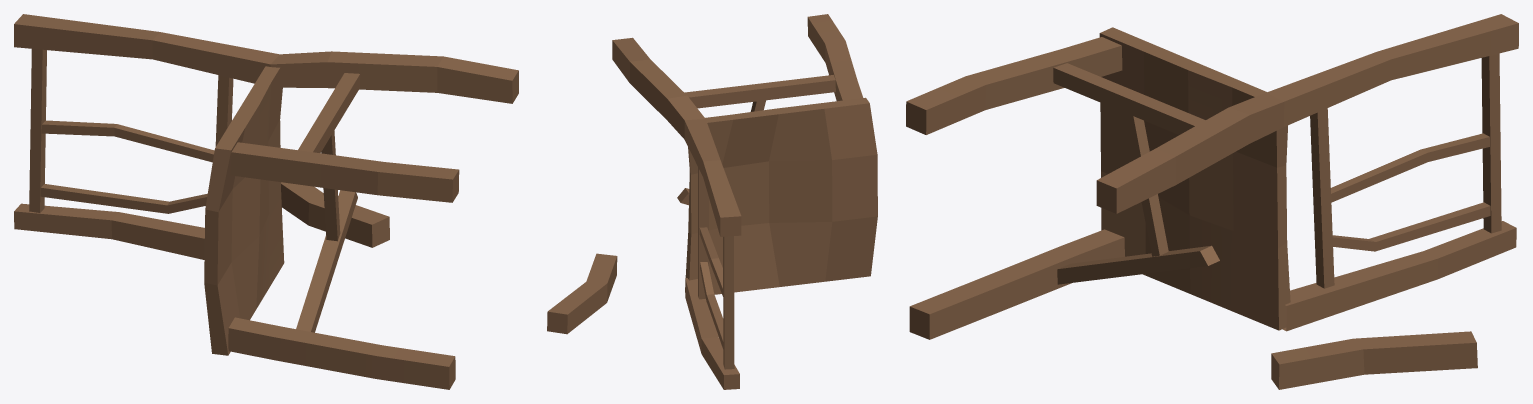
The model's file is SM_Chair_02_B.glb.
3 views of the same model, side by side, from view 1: azimuth 30°, elevation 25°; view 2: azimuth 150°, elevation 25°; view 3: azimuth 270°, elevation 25° (orthographic). The views are drawn at different scales.
Visible parts, largest first — view 1: SM_Chair_02_B; view 2: SM_Chair_02_B; view 3: SM_Chair_02_B.
Part boxes in pixels (box(x1,y1,x2,y2)): SM_Chair_02_B: box(14, 14, 518, 389); SM_Chair_02_B: box(547, 14, 877, 389); SM_Chair_02_B: box(906, 14, 1518, 389).
Bounding box in the file's own units: 0.6612 × 0.4148 × 0.9706.
Materials: 1 (1 with a texture image).
